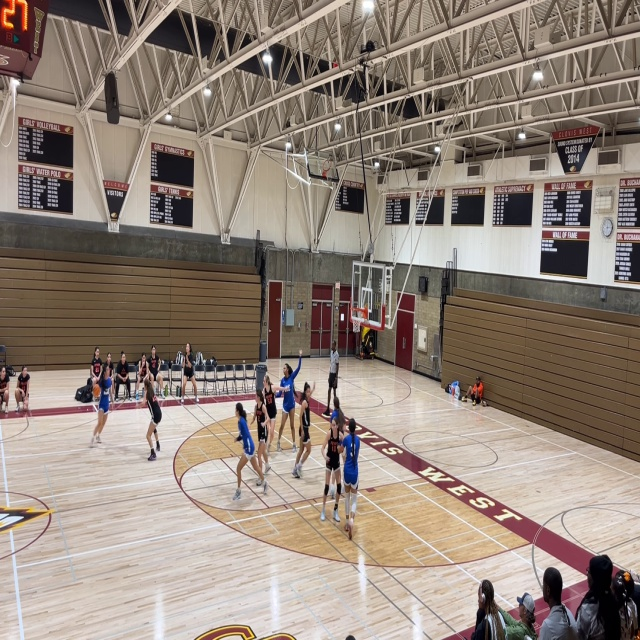Basketball: (92, 384, 101, 398)
